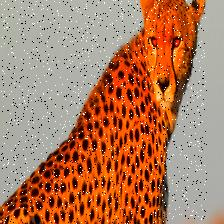Cheetha: (0, 0, 206, 224)
